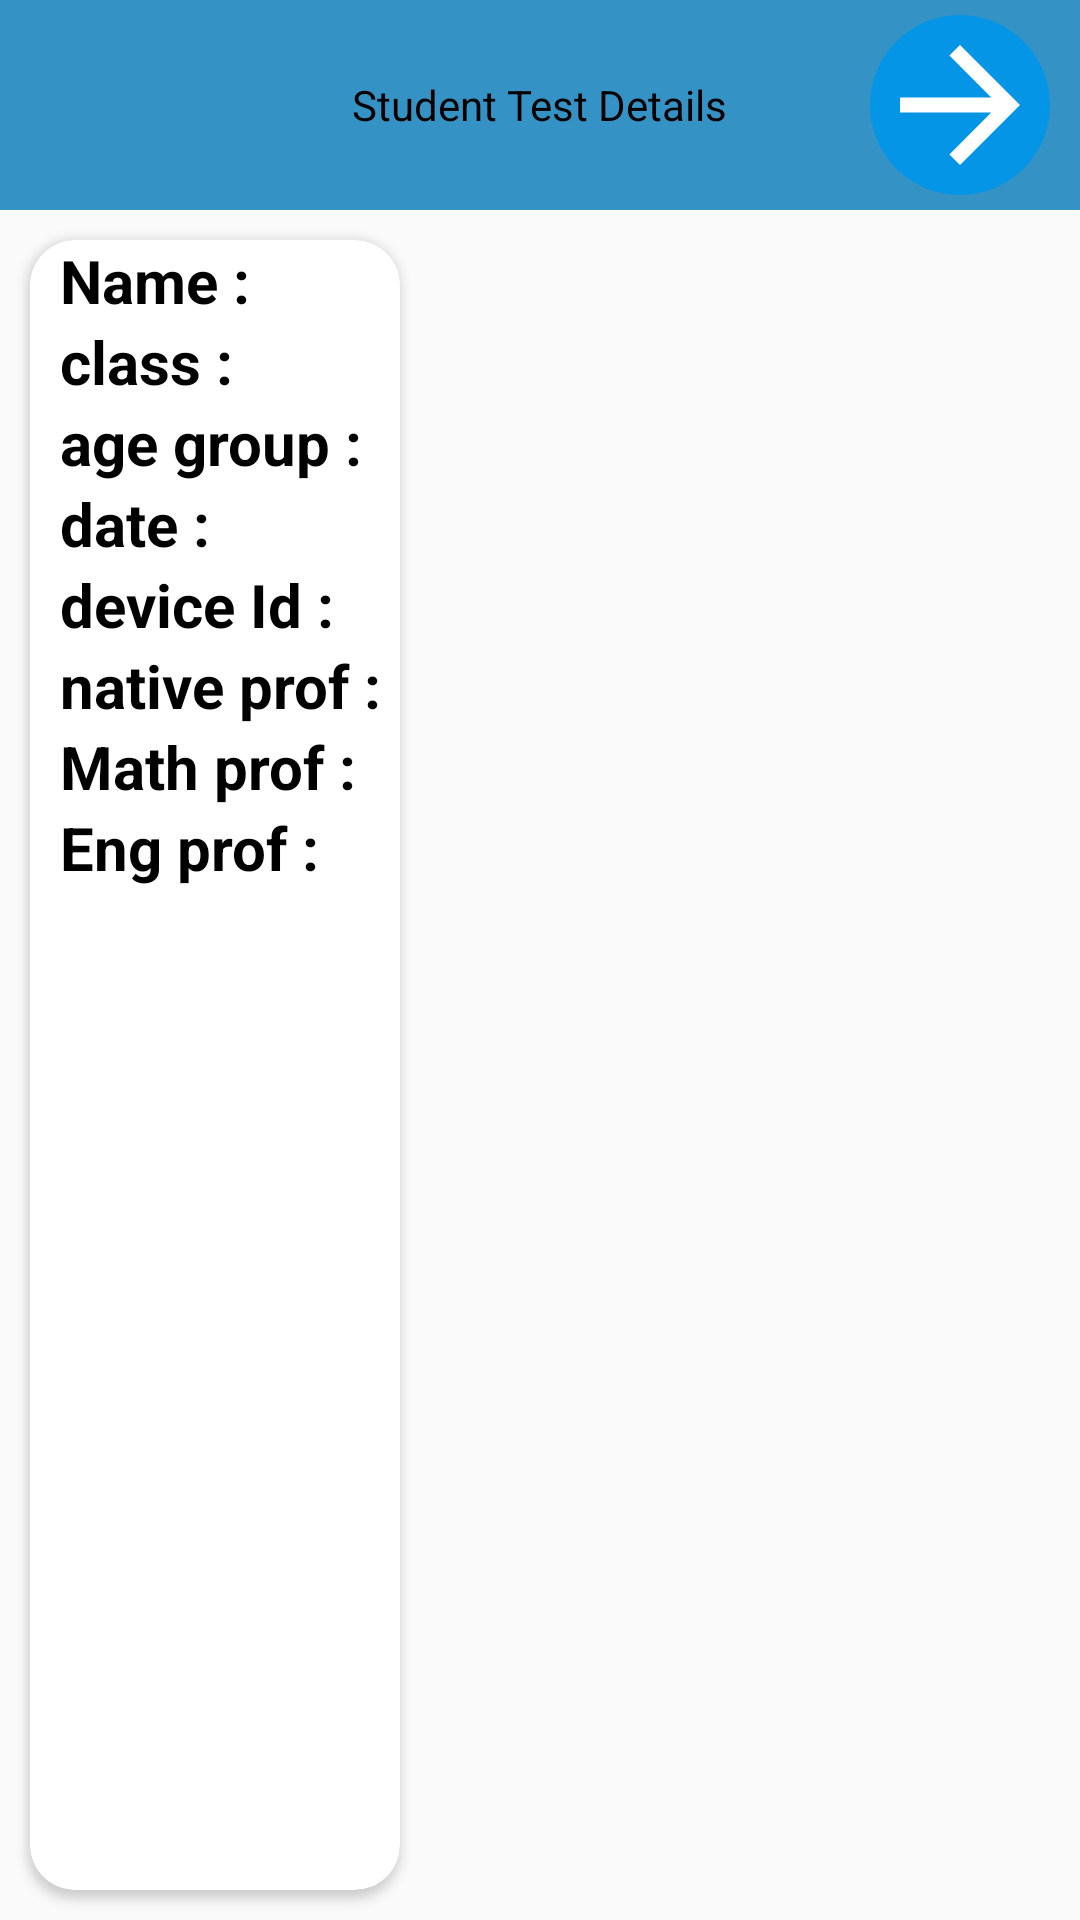

Where icons sit on this 1080x1920 app screen, as (x1, y1, x2, y2):
arrow forward: (870, 15, 1050, 195)
